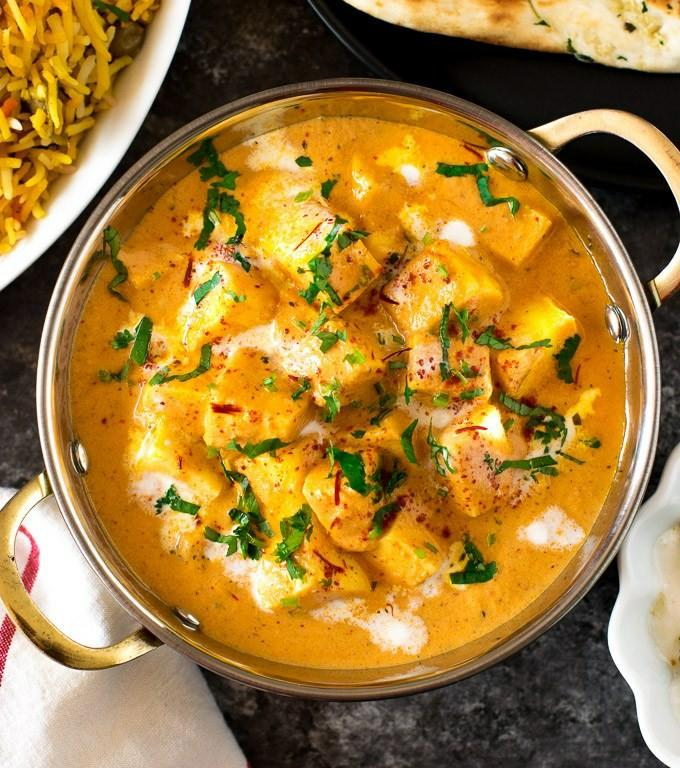ShahiPaneer: (64, 113, 624, 661)
